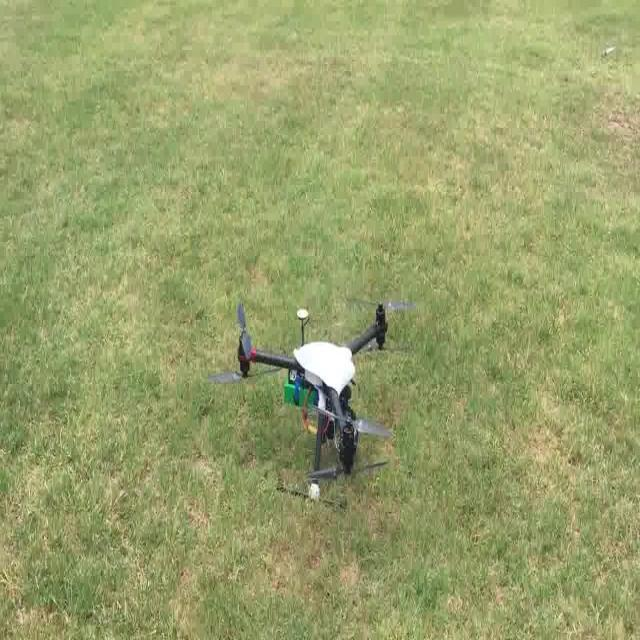drone: (205, 280, 426, 505)
